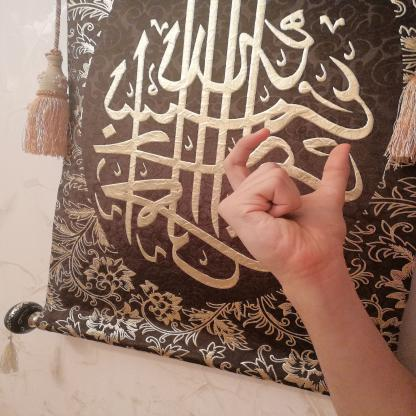NOON: (204, 120, 366, 281)
